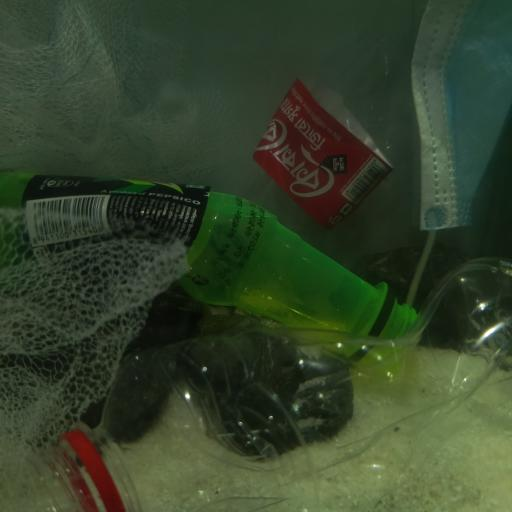mask: (407, 0, 512, 234)
net: (0, 0, 195, 461)
plastic_bottle: (17, 251, 512, 512), (2, 171, 421, 367), (244, 34, 415, 232)
